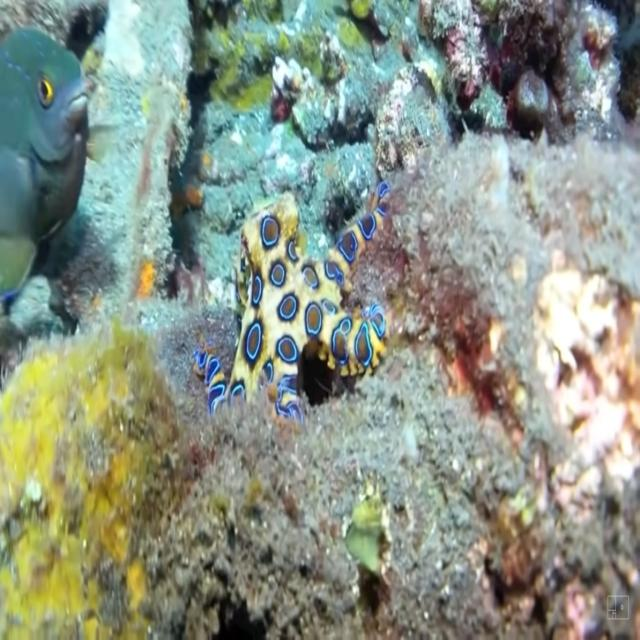blue_ringed_octopus: (188, 177, 390, 430)
